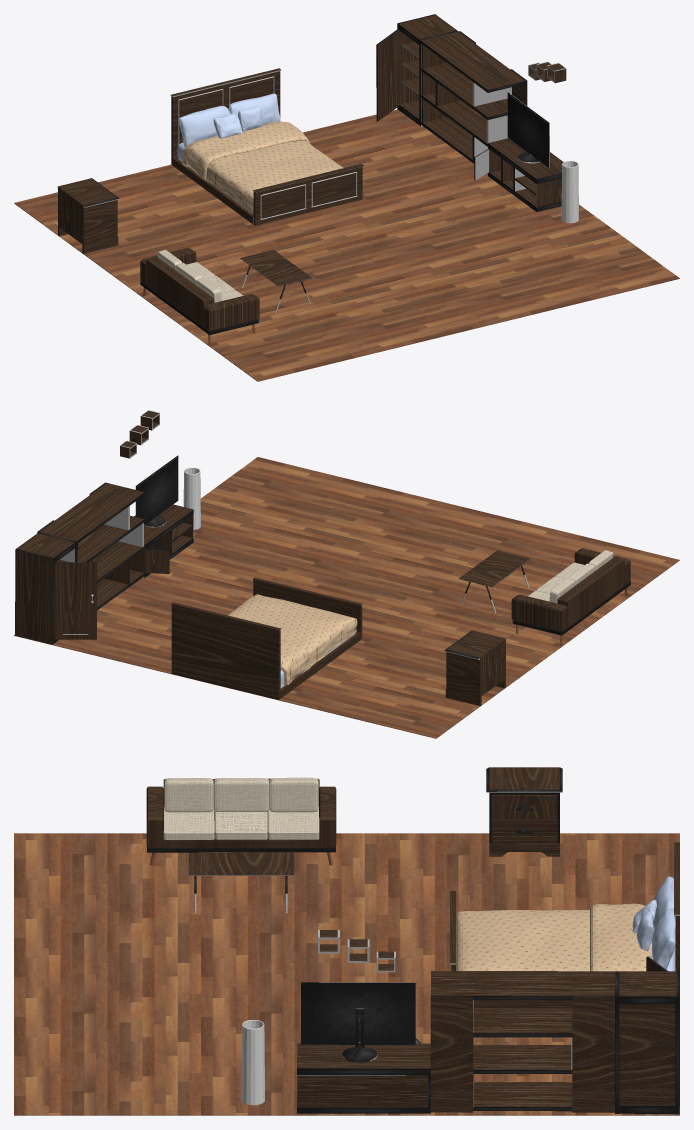
The model's file is T2 Set 2 Pos 2.glb.
3 views of the same model, one above another, from view 1: azimuth 30°, elevation 25°; view 2: azimuth 150°, elevation 25°; view 3: azimuth 270°, elevation 25° (orthographic). The views are drawn at different scales.
Bounding box in the file's own units: 0.2923 × 0.0855 × 0.292.
Materials: 9 (8 with a texture image).
